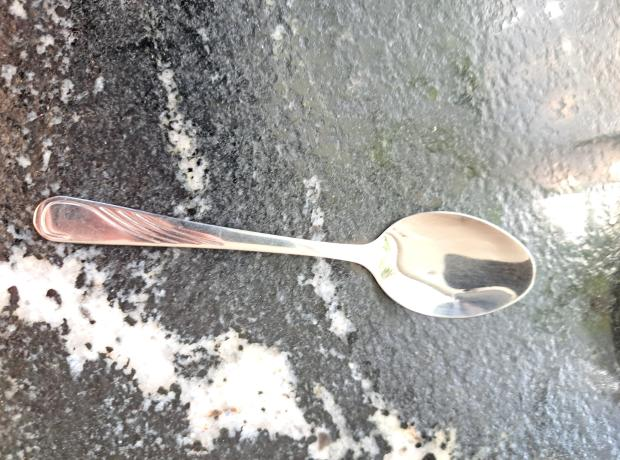metal: (34, 193, 536, 314)
